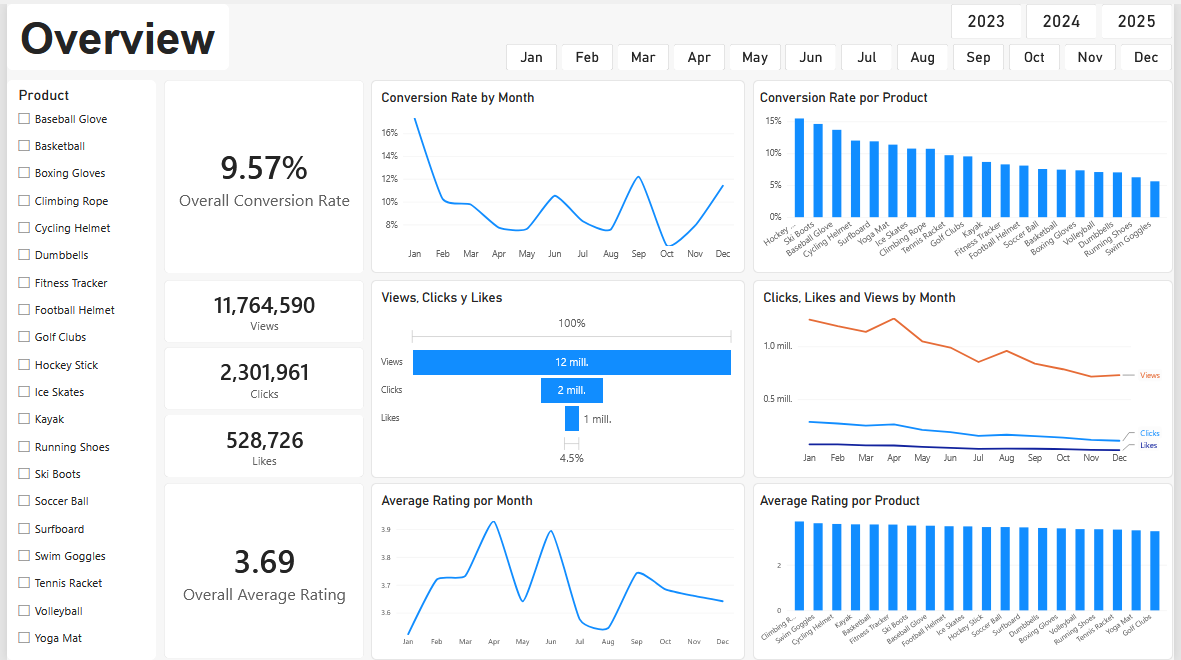

The dashboard page shown, as its layout file describes it:
{"tool":"powerbi","page":{"name":"Overview","canvas":[1920,1080],"ordinal":0},"visuals":[{"type":"textbox","box":[0,0,365.6,108.6],"z":0},{"type":"cardVisual","fields":{"Data":["_measures.Views","_measures.Clicks","_measures.Likes"]},"box":[258.8,455,329,325],"z":0},{"type":"cardVisual","fields":{"Data":["_measures.Conversion Rate"]},"box":[258.8,124.9,329,318.5],"z":1000},{"type":"slicer","fields":{"Values":["dim_products.name"]},"box":[0,125,245,955],"z":1000},{"type":"cardVisual","fields":{"Data":["_measures.Average Rating"]},"box":[257.8,788.7,329,289.5],"z":2000},{"type":"lineChart","title":"Conversion Rate by Month","fields":{"Category":["Calendar.Month Short"],"Y":["_measures.Conversion Rate"]},"box":[599,124.9,615.3,318.5],"z":3000},{"type":"advancedSlicerVisual","fields":{"Values":["Calendar.Year"]},"box":[1554.5,0,365.6,57.9],"z":3001},{"type":"advancedSlicerVisual","fields":{"Values":["Calendar.Month Short"]},"box":[821.6,65.1,1098.5,43.4],"z":3002},{"type":"columnChart","fields":{"Category":["dim_products.name"],"Y":["_measures.Conversion Rate"]},"box":[1228.8,124.9,691.3,318.5],"z":3003},{"type":"lineChart","title":"Clicks, Likes and Views by Month","fields":{"Category":["Calendar.Month Short"],"Y":["_measures.Clicks","_measures.Likes","_measures.Views"]},"box":[1228.8,454.2,691.3,325.7],"z":3004},{"type":"funnel","fields":{"Y":["_measures.Views","_measures.Clicks","_measures.Likes"]},"box":[599,454.2,615.3,325.7],"z":3005},{"type":"lineChart","fields":{"Category":["Calendar.Month Short"],"Y":["_measures.Average Rating"]},"box":[599,789,615.3,291.4],"z":3006},{"type":"columnChart","fields":{"Category":["dim_products.name"],"Y":["_measures.Average Rating"]},"box":[1228.8,789,691.3,291.4],"z":3007}]}

Visuals, with their boxes in screenshot pixels (x1, y1, x2, y2), scaled from the page's 1920x1080 canvas onto the 1181x660 screenshot:
textbox: 0:0:225:66
cardVisual - _measures.Views x _measures.Clicks: 159:278:362:477
cardVisual - _measures.Conversion Rate: 159:76:362:271
slicer - dim_products.name: 0:76:151:659
cardVisual - _measures.Average Rating: 159:482:361:659
"Conversion Rate by Month" lineChart: 368:76:747:271
advancedSlicerVisual - Calendar.Year: 956:0:1180:35
advancedSlicerVisual - Calendar.Month Short: 505:40:1180:66
columnChart - dim_products.name x _measures.Conversion Rate: 756:76:1180:271
"Clicks, Likes and Views by Month" lineChart: 756:278:1180:477
funnel - _measures.Views x _measures.Clicks: 368:278:747:477
lineChart - Calendar.Month Short x _measures.Average Rating: 368:482:747:659
columnChart - dim_products.name x _measures.Average Rating: 756:482:1180:659
